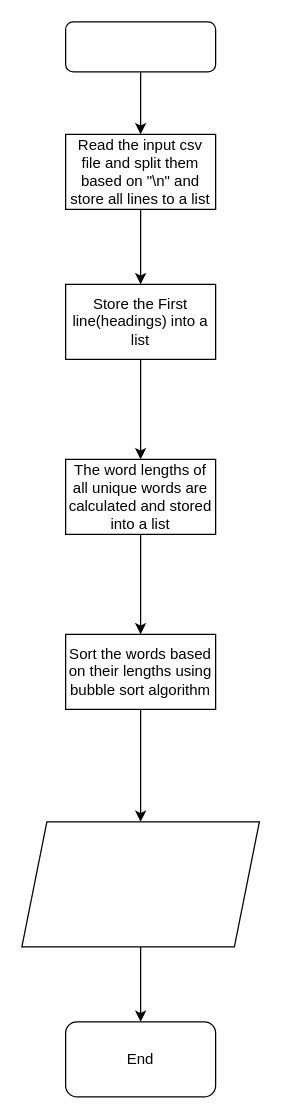
This 281x1119 diagram has some shape labels left out. Here are the shapes that lost their labels. From the top down, the centre of each, then its label:
At point (140, 46): "Start".
At point (140, 884): "Open the outputfile and write each word and their count to it".
